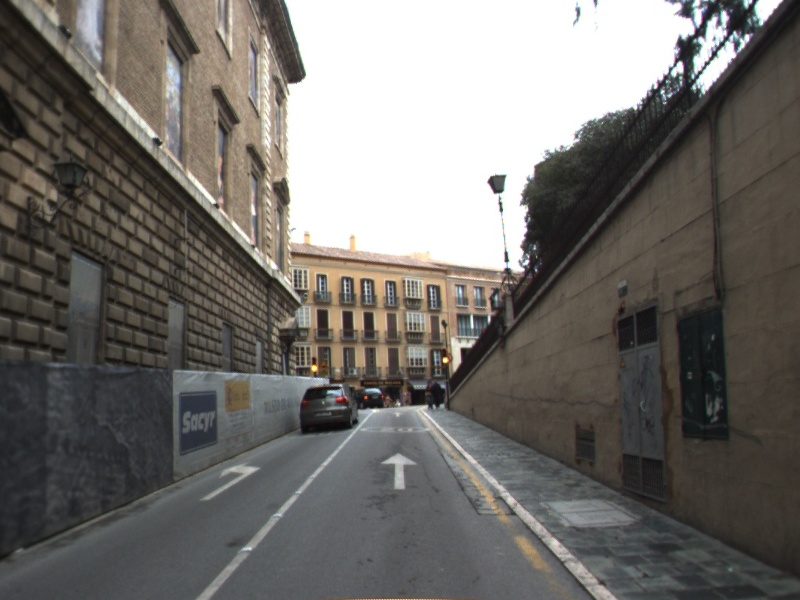LEFT: (197, 459, 263, 502)
STRAIGHT: (379, 451, 420, 491), (390, 410, 406, 419)
